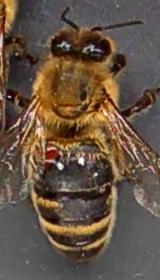varroa_mite: (32, 140, 66, 174)
